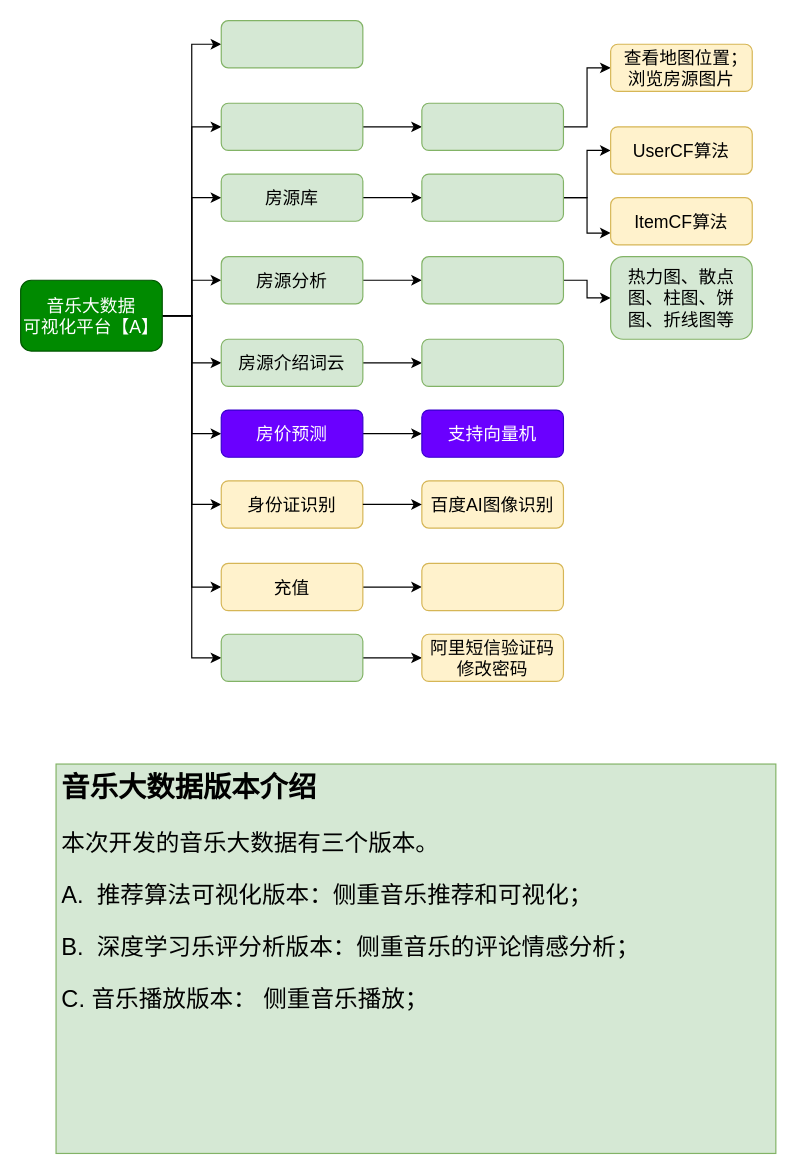
The diagram is 796 pixels wide and 1174 high, and some of its shapes have lost their labels. The box of each missing label's shape, as (x1, y1, x2, y2) in pixels:
Echarts分析大屏: (421, 255, 563, 304)
修改个人信息: (220, 633, 363, 681)
协同过滤 推荐算法: (421, 173, 563, 221)
房源卡片: (421, 102, 563, 150)
支付宝沙箱支付: (421, 562, 563, 611)
登录与注册: (220, 19, 363, 68)
词云: (421, 338, 563, 386)
首页: (220, 102, 363, 150)
